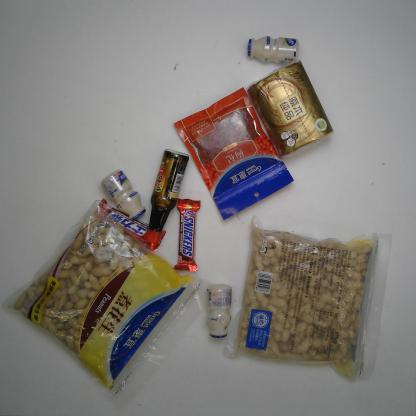Chocolate: (93, 202, 164, 250), (172, 190, 205, 271)
Dried Food: (0, 205, 202, 400), (236, 219, 384, 382)
Dried Fruit: (174, 90, 298, 218)
Milk: (102, 170, 146, 222), (244, 33, 298, 65), (206, 284, 234, 340)
Seasoner: (143, 144, 187, 250)
Tissue: (249, 67, 336, 157)
